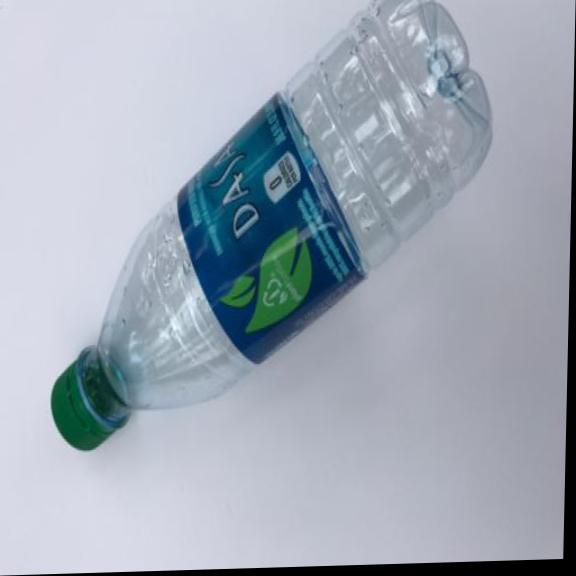Plastik: (40, 0, 497, 472)
